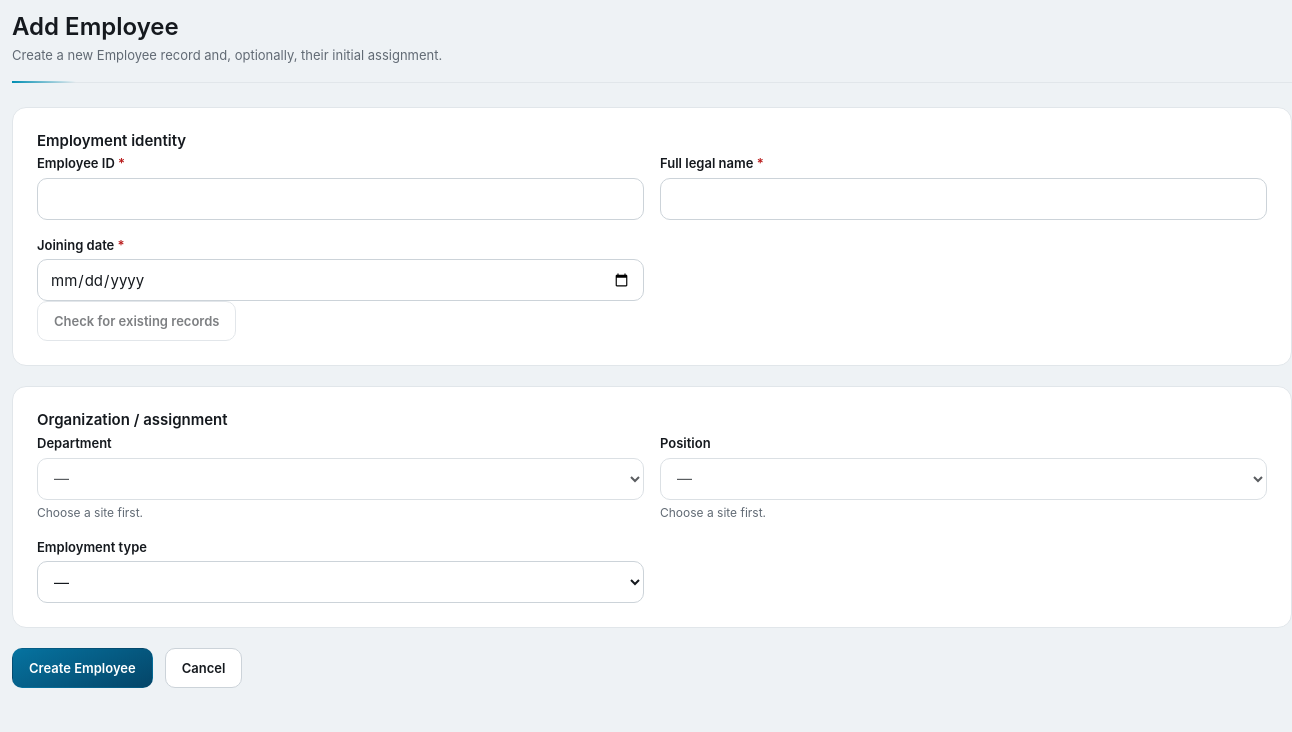
Test: AddEmployeePage duplicate warning (ESDMS-002) › same-site match renders with authorized detail
Type "EMP-1" into the field labelled "Employee ID *" at coordinates (340, 199), box [37, 178, 644, 220]
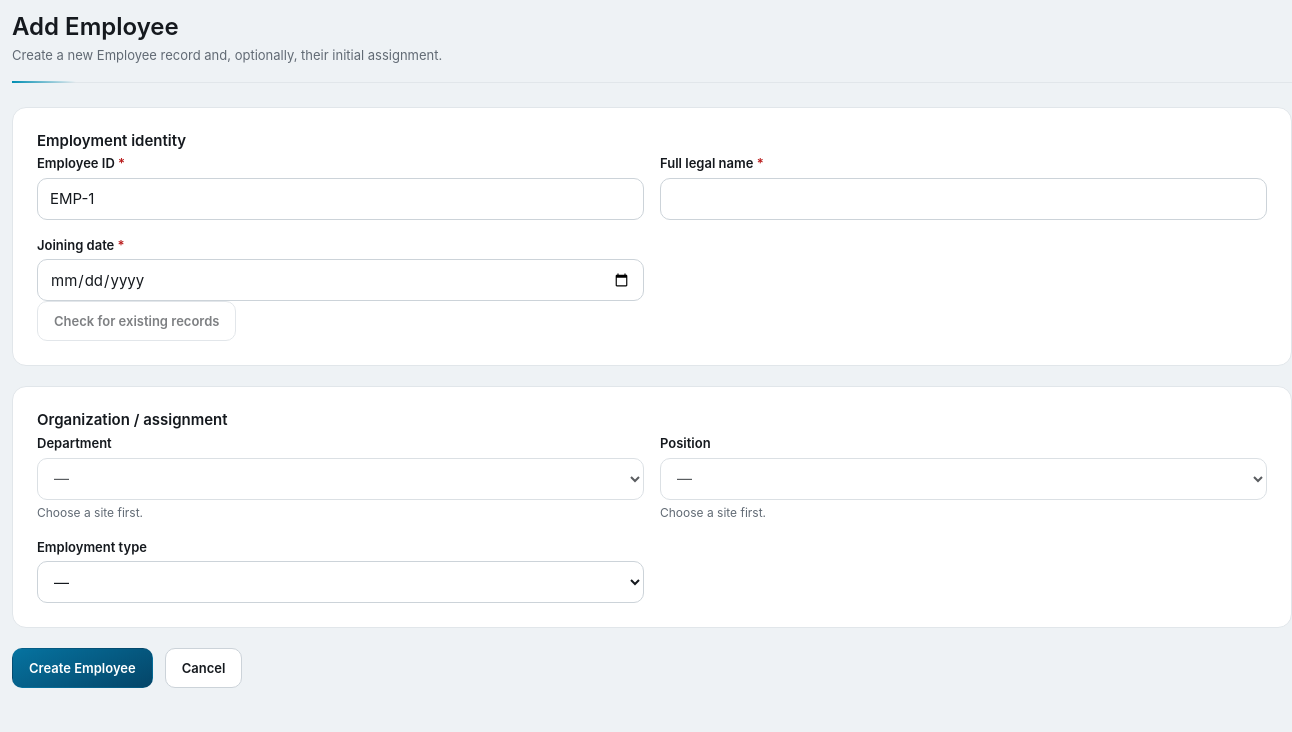
Type "New Person" into the field labelled "Full legal name *" at coordinates (964, 199), box [660, 178, 1267, 220]
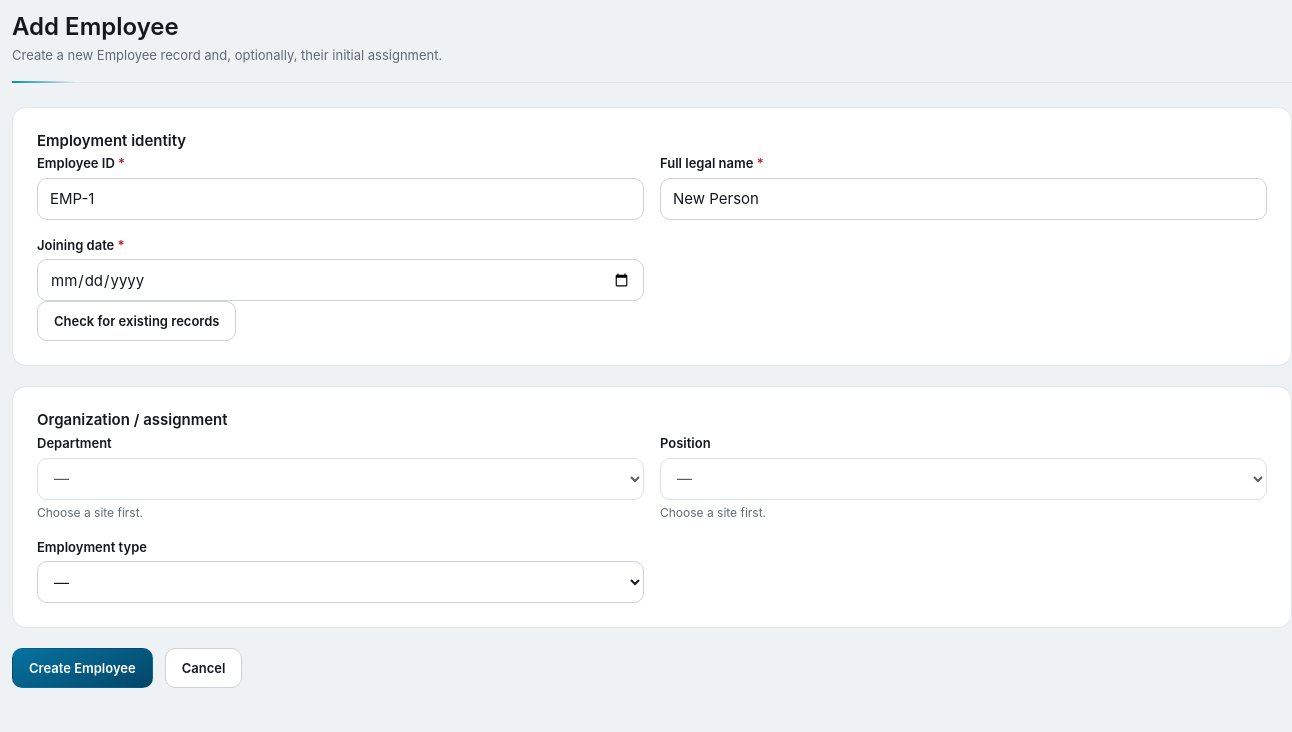
Type "2026-01-01" into the date field labelled "Joining date *" at coordinates (340, 280), box [37, 259, 644, 301]
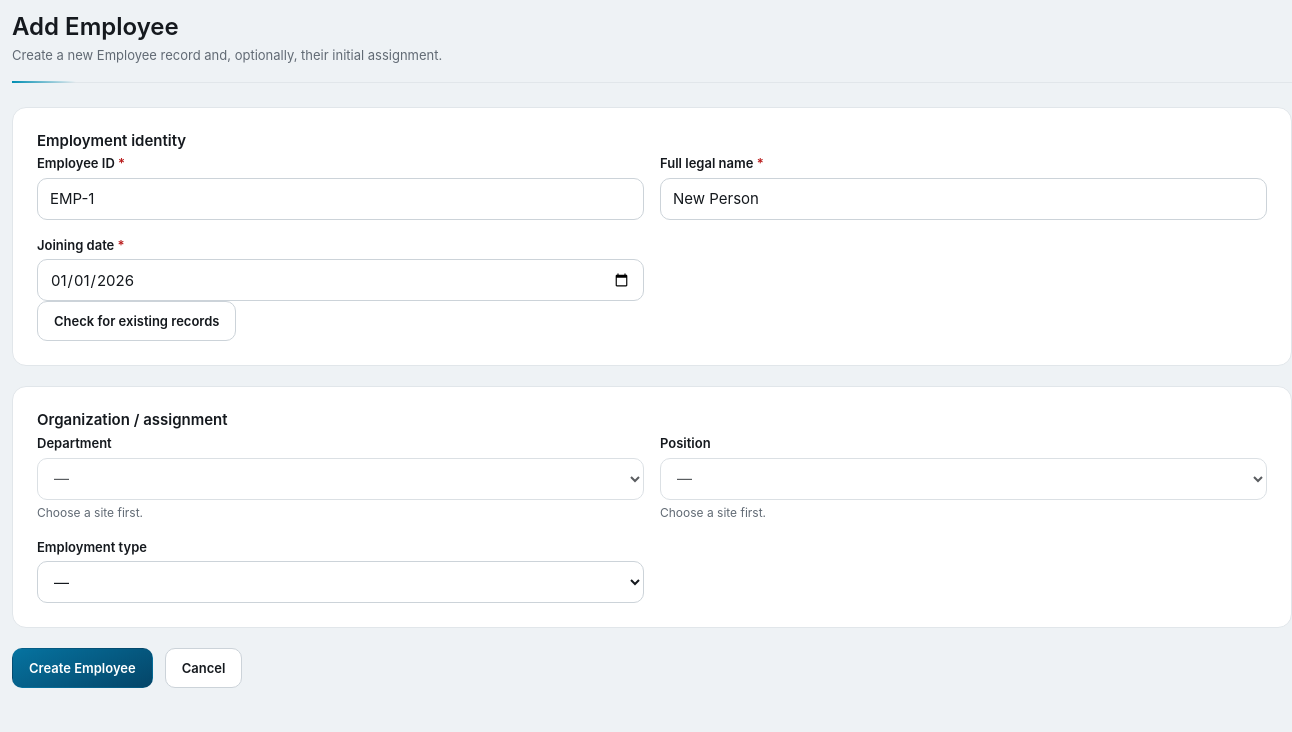
Click the button "Create Employee" at coordinates (82, 668), box [12, 648, 153, 688]
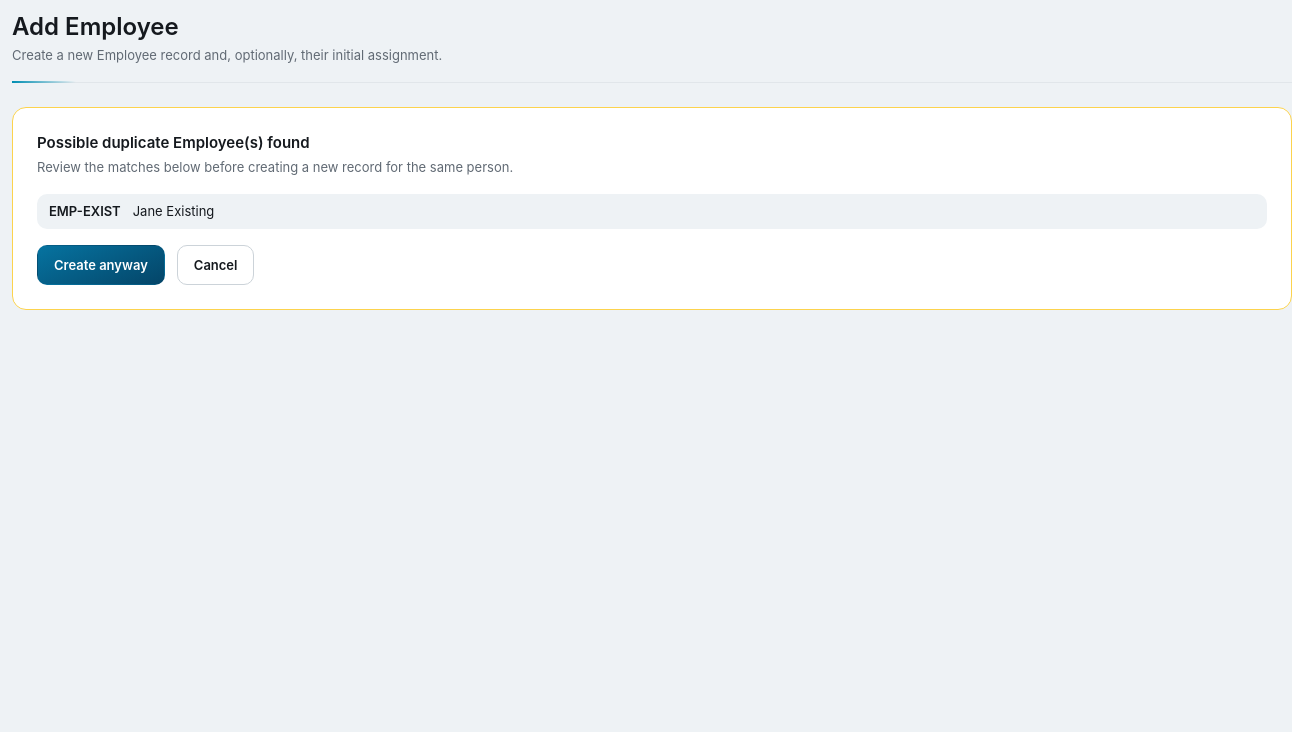
Result: the text "EMP-EXIST" is shown at [49, 202, 121, 221]
Result: the text "Jane Existing" is shown at [133, 202, 214, 221]
